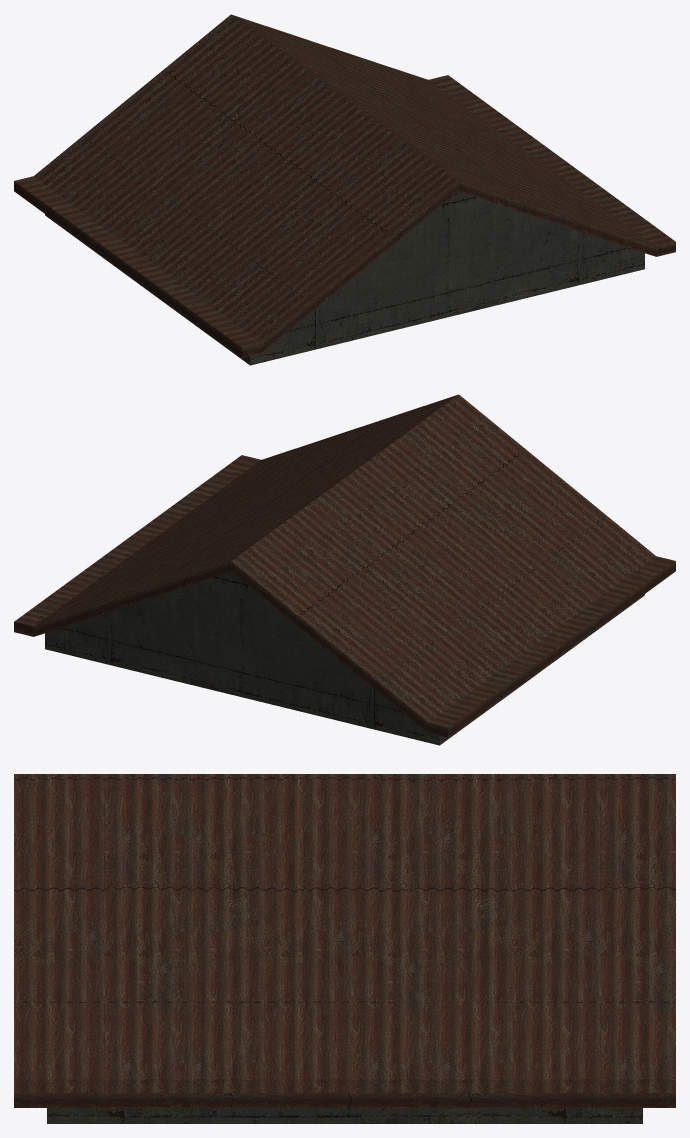
Rendered from roof_mx_1.glb.
3 views of the same model, one above another, from view 1: azimuth 30°, elevation 25°; view 2: azimuth 150°, elevation 25°; view 3: azimuth 270°, elevation 25° (orthographic). The views are drawn at different scales.
Parts seen in each view (by area): view 1: roof_mx_1; view 2: roof_mx_1; view 3: roof_mx_1.
Part boxes in pixels (<box>): roof_mx_1: <box>14,14,675,365</box>; roof_mx_1: <box>14,394,675,745</box>; roof_mx_1: <box>14,774,675,1123</box>.
Size of the model in its own units: 4.4 by 1.4 by 4.
3 materials, 3 textured.
